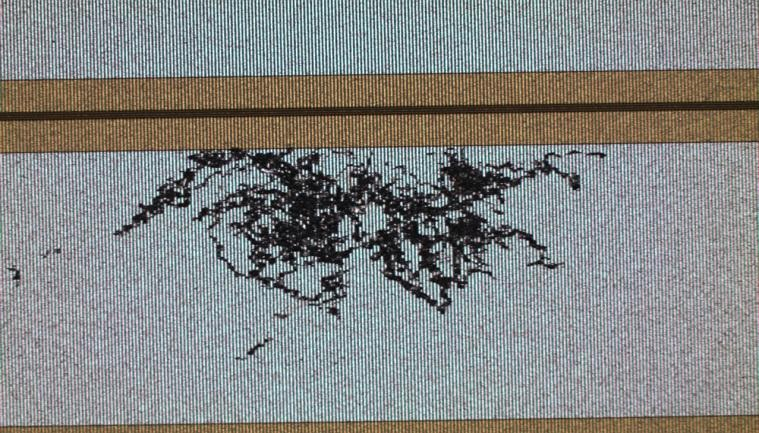SCRATCH: (1, 138, 621, 377)
